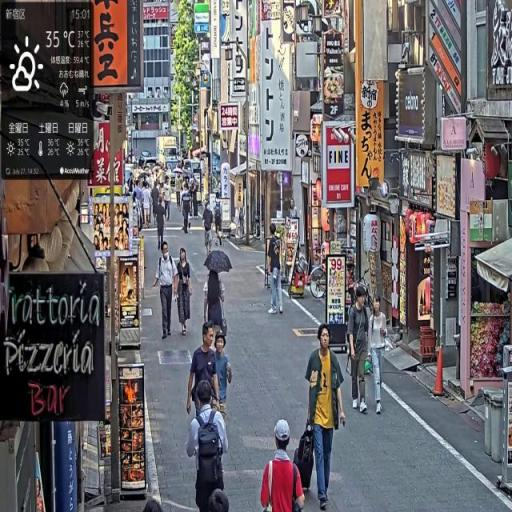person: (305, 325, 348, 512), (187, 378, 230, 512), (260, 421, 306, 512), (187, 323, 220, 421), (348, 287, 372, 418), (368, 295, 391, 418), (155, 241, 180, 340), (213, 332, 233, 419), (176, 248, 195, 337), (203, 201, 216, 258), (181, 183, 193, 236), (164, 177, 173, 223)
